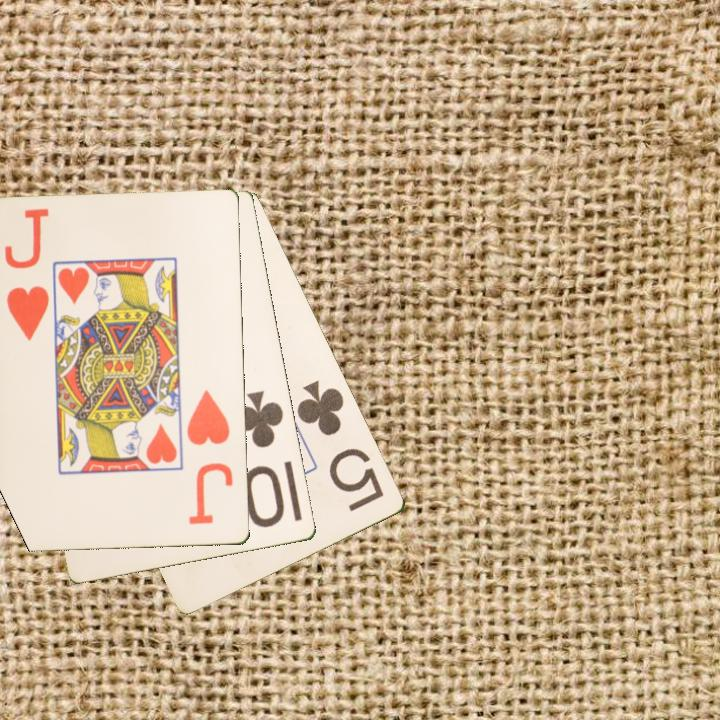10c: (231, 387, 288, 531)
5c: (293, 377, 388, 515)
Jh: (184, 386, 237, 528), (3, 283, 53, 344)
